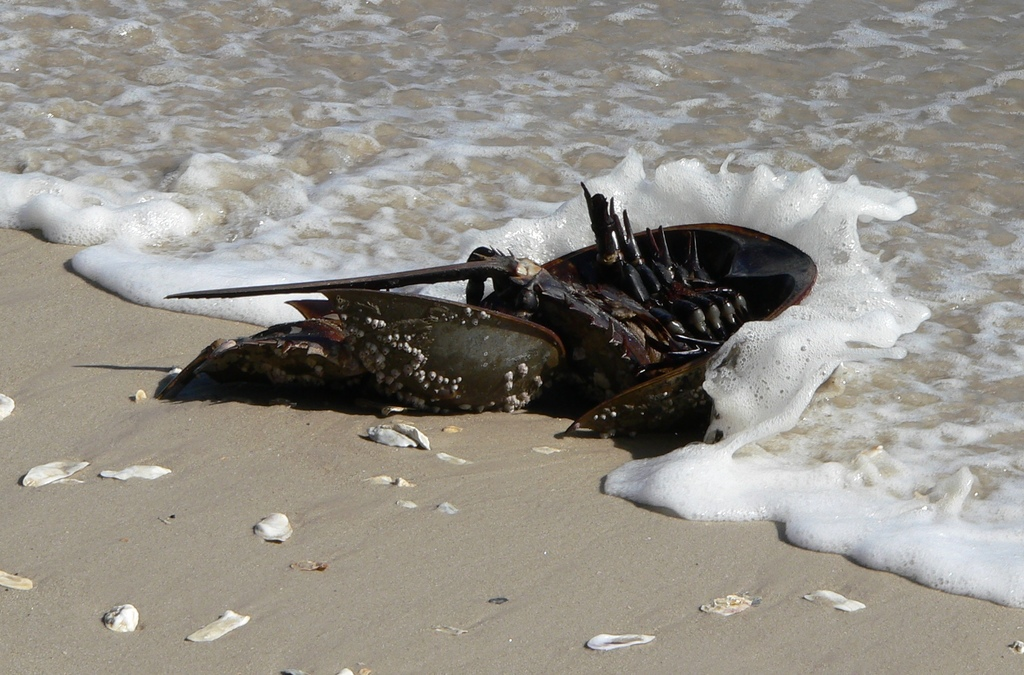Animal: (152, 180, 818, 442)
